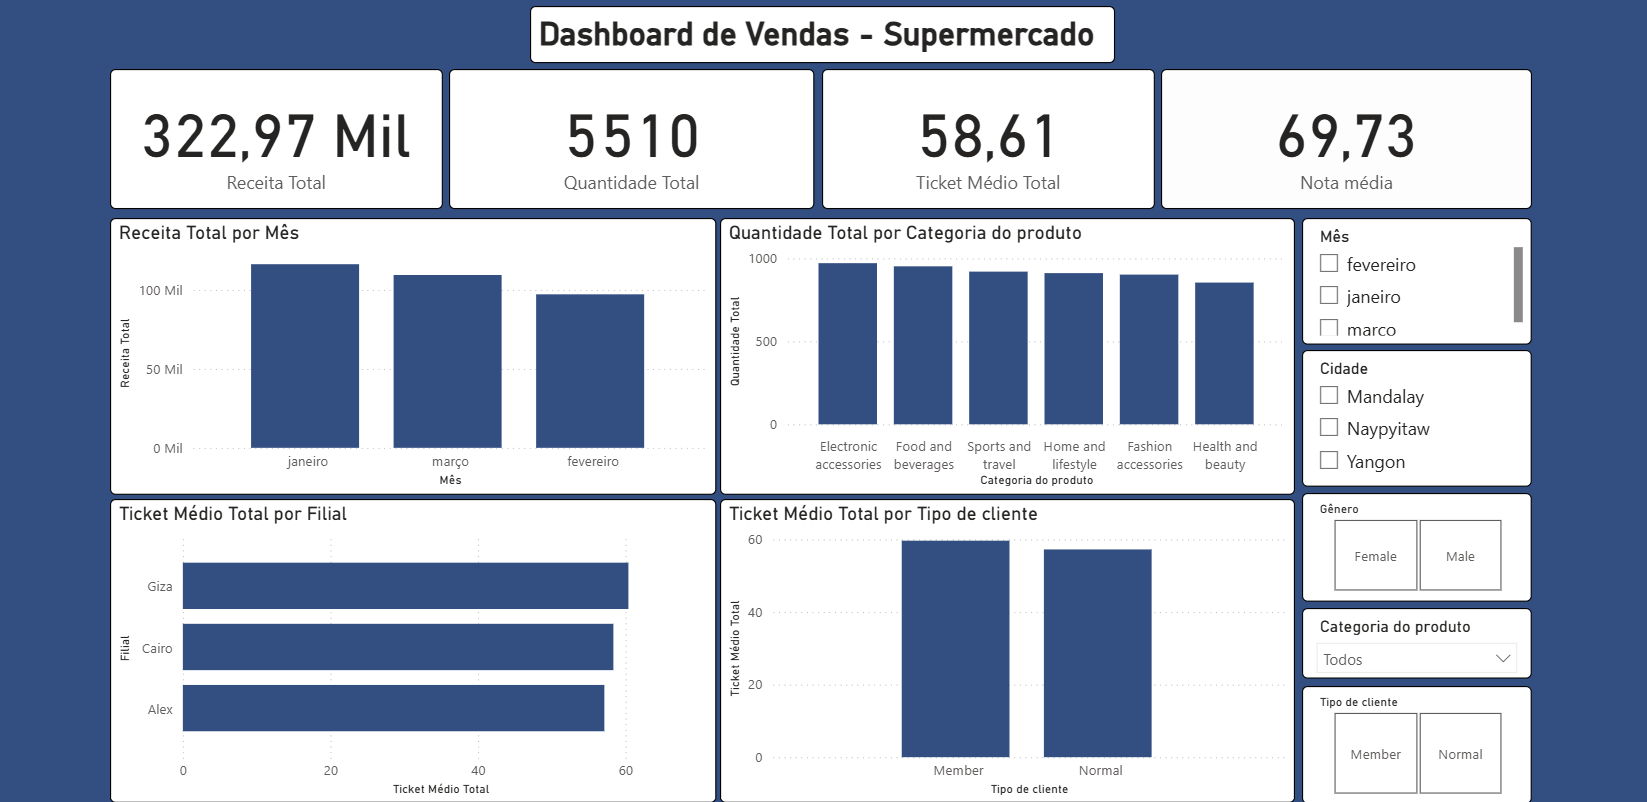

What the dashboard file says about the page in this screenshot:
{"tool":"powerbi","page":{"name":"Página 1","canvas":[1280,720],"ordinal":0},"visuals":[{"type":"card","fields":{"Values":["SuperMarket_Analysis.Receita Total"]},"box":[3.9,63.2,296.7,125.5],"z":0},{"type":"card","fields":{"Values":["SuperMarket_Analysis.Quantidade Total"]},"box":[306.4,63.2,325.8,125.5],"z":1000},{"type":"card","fields":{"Values":["SuperMarket_Analysis.Ticket Médio Total"]},"box":[639,63.2,296.7,125.5],"z":2000},{"type":"card","fields":{"Values":["SuperMarket_Analysis.Nota média"]},"box":[941.5,63.2,330.7,125.5],"z":3000},{"type":"clusteredColumnChart","fields":{"Category":["SuperMarket_Analysis.Mês"],"Y":["SuperMarket_Analysis.Receita Total"]},"box":[3.9,196.5,540.8,247.1],"z":4000},{"type":"clusteredBarChart","fields":{"Category":["SuperMarket_Analysis.Branch"],"Y":["SuperMarket_Analysis.Ticket Médio Total"]},"box":[3.9,447.4,540.8,272.3],"z":5000},{"type":"clusteredColumnChart","fields":{"Category":["SuperMarket_Analysis.Product line"],"Y":["SuperMarket_Analysis.Quantidade Total"]},"box":[547.6,196.5,512.6,247.1],"z":6000},{"type":"columnChart","fields":{"Category":["SuperMarket_Analysis.Customer type"],"Y":["SuperMarket_Analysis.Ticket Médio Total"]},"box":[547.6,447.4,512.6,272.3],"z":7000},{"type":"slicer","fields":{"Values":["SuperMarket_Analysis.City"]},"box":[1067,314.2,205.2,121.6],"z":8000},{"type":"slicer","fields":{"Values":["SuperMarket_Analysis.Gênero"]},"box":[1067,441.6,205.2,97.3],"z":9000},{"type":"slicer","fields":{"Values":["SuperMarket_Analysis.Customer type"]},"box":[1067,613.7,205.2,106],"z":10000},{"type":"slicer","fields":{"Values":["SuperMarket_Analysis.Product line"]},"box":[1067,544.7,205.2,63.2],"z":11000},{"type":"slicer","fields":{"Values":["SuperMarket_Analysis.Mês"]},"box":[1067,196.5,205.2,112.8],"z":12000},{"type":"textbox","box":[378.4,6.8,522.3,50.6],"z":13000}]}

Visuals, with their boxes in screenshot pixels (x1, y1, x2, y2):
card - SuperMarket_Analysis.Receita Total: box(124, 69, 450, 207)
card - SuperMarket_Analysis.Quantidade Total: box(457, 69, 815, 207)
card - SuperMarket_Analysis.Ticket Médio Total: box(822, 69, 1148, 207)
card - SuperMarket_Analysis.Nota média: box(1154, 69, 1518, 207)
clusteredColumnChart - SuperMarket_Analysis.Mês x SuperMarket_Analysis.Receita Total: box(124, 216, 718, 487)
clusteredBarChart - SuperMarket_Analysis.Branch x SuperMarket_Analysis.Ticket Médio Total: box(124, 492, 718, 791)
clusteredColumnChart - SuperMarket_Analysis.Product line x SuperMarket_Analysis.Quantidade Total: box(722, 216, 1285, 487)
columnChart - SuperMarket_Analysis.Customer type x SuperMarket_Analysis.Ticket Médio Total: box(722, 492, 1285, 791)
slicer - SuperMarket_Analysis.City: box(1292, 345, 1518, 479)
slicer - SuperMarket_Analysis.Gênero: box(1292, 485, 1518, 592)
slicer - SuperMarket_Analysis.Customer type: box(1292, 674, 1518, 791)
slicer - SuperMarket_Analysis.Product line: box(1292, 598, 1518, 668)
slicer - SuperMarket_Analysis.Mês: box(1292, 216, 1518, 340)
textbox: box(536, 7, 1110, 63)
